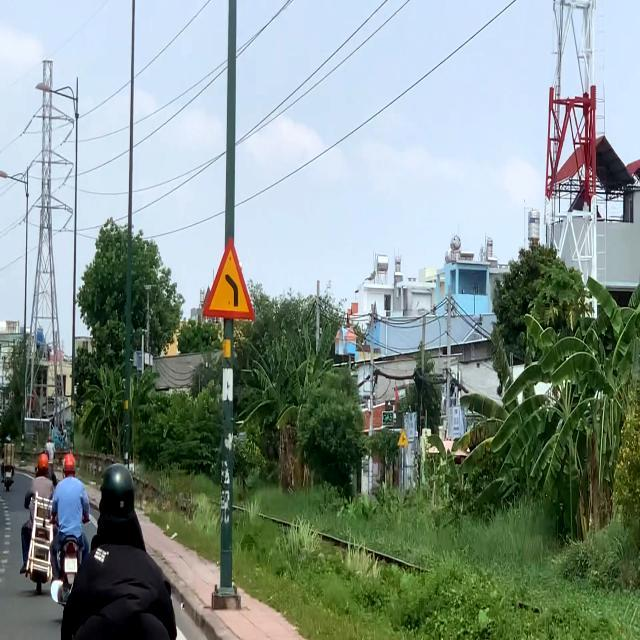cho ngoat nguy hiem vong ben trai: (199, 234, 258, 330)
